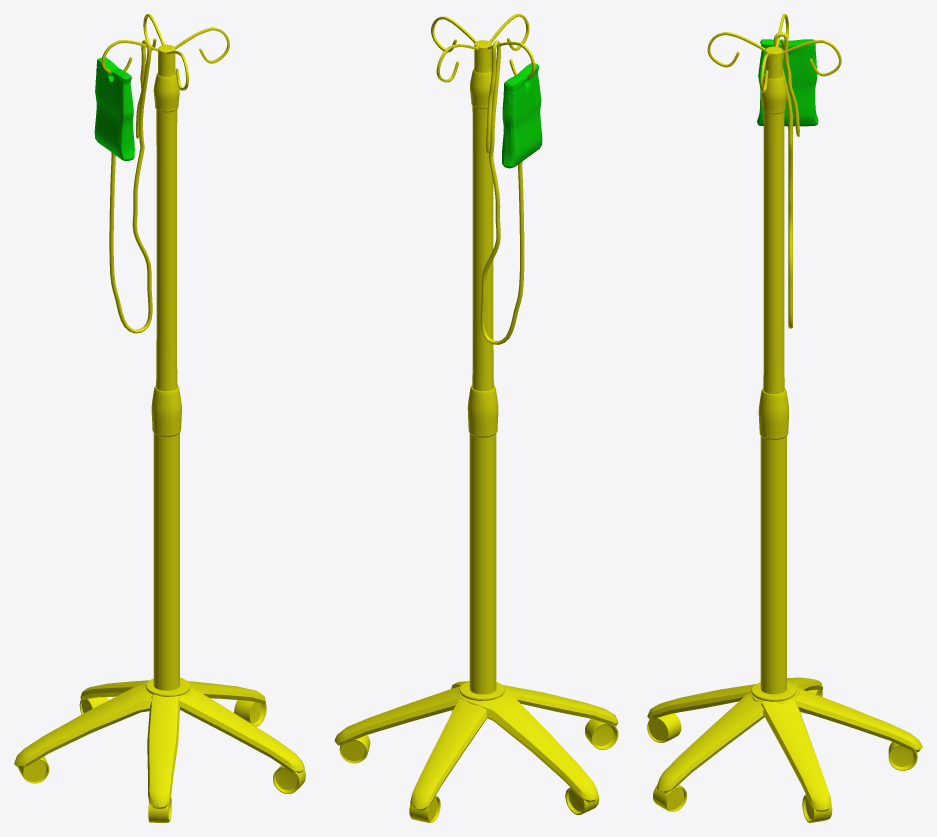
Rendered from IVBagHolder.fbx.
3 renders of one model, left to right at view 1: azimuth 30°, elevation 25°; view 2: azimuth 150°, elevation 25°; view 3: azimuth 270°, elevation 25°, orthographic.
Parts seen in each view (by area): view 1: polySurface201; view 2: polySurface201; view 3: polySurface201.
Boxes of the visible parts, <box> form: polySurface201: <box>14,14,305,822</box>; polySurface201: <box>334,14,618,822</box>; polySurface201: <box>647,14,922,822</box>.
Size of the model in its own units: 51.67 by 143 by 48.51.
